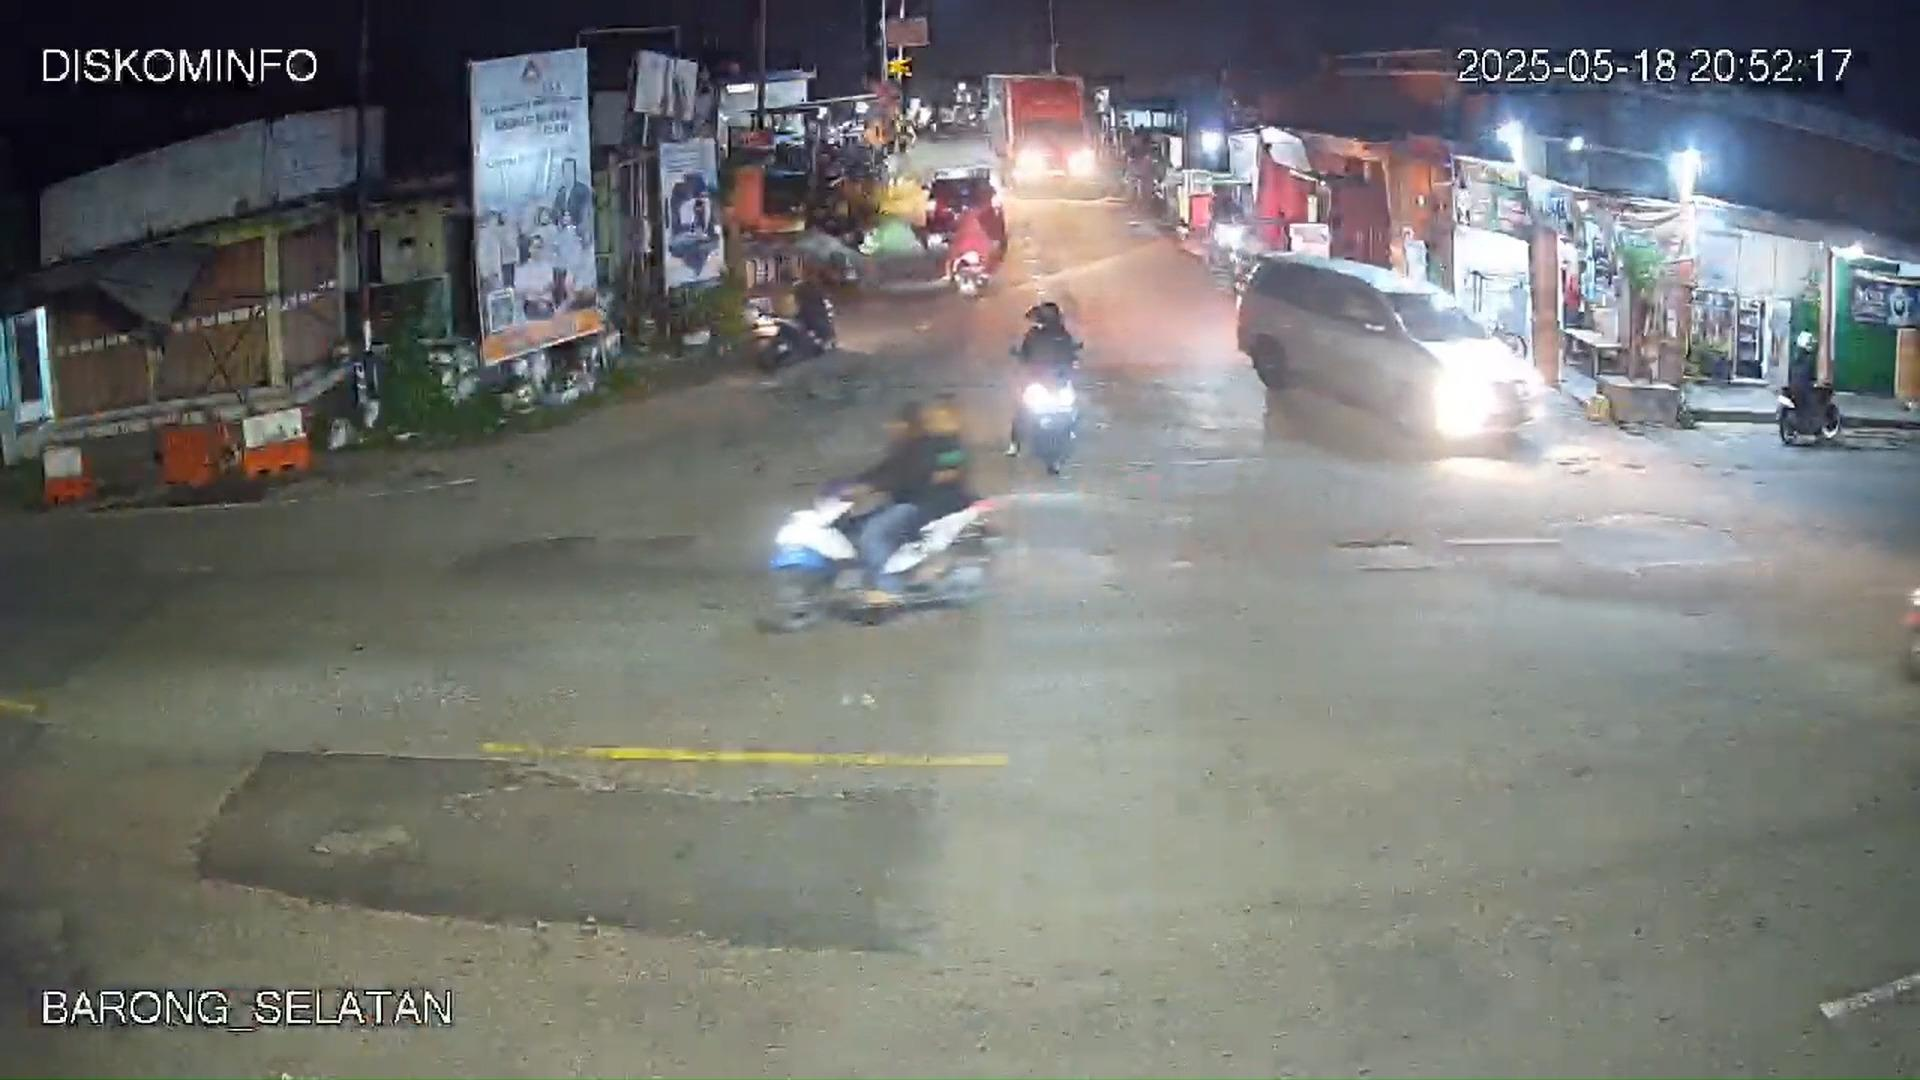Motor: (761, 483, 997, 629), (1006, 299, 1083, 464)
Truck: (985, 71, 1093, 196)
mobil: (1244, 251, 1534, 452), (922, 166, 1004, 248)
